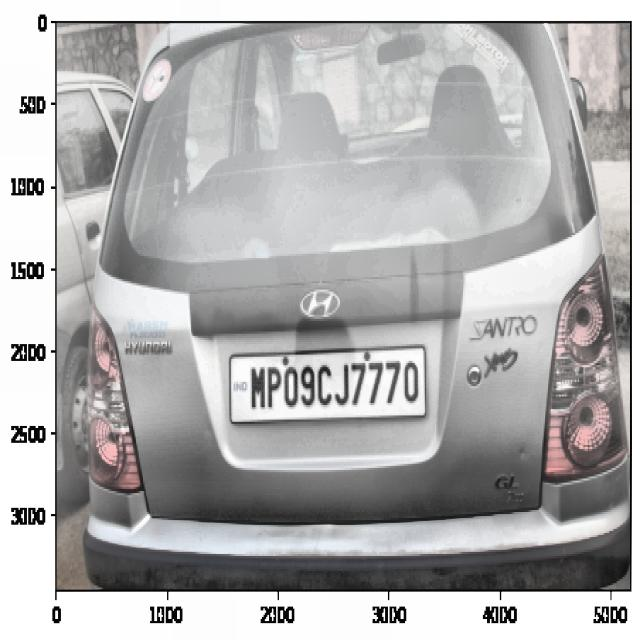license_plate: (242, 351, 429, 421)
